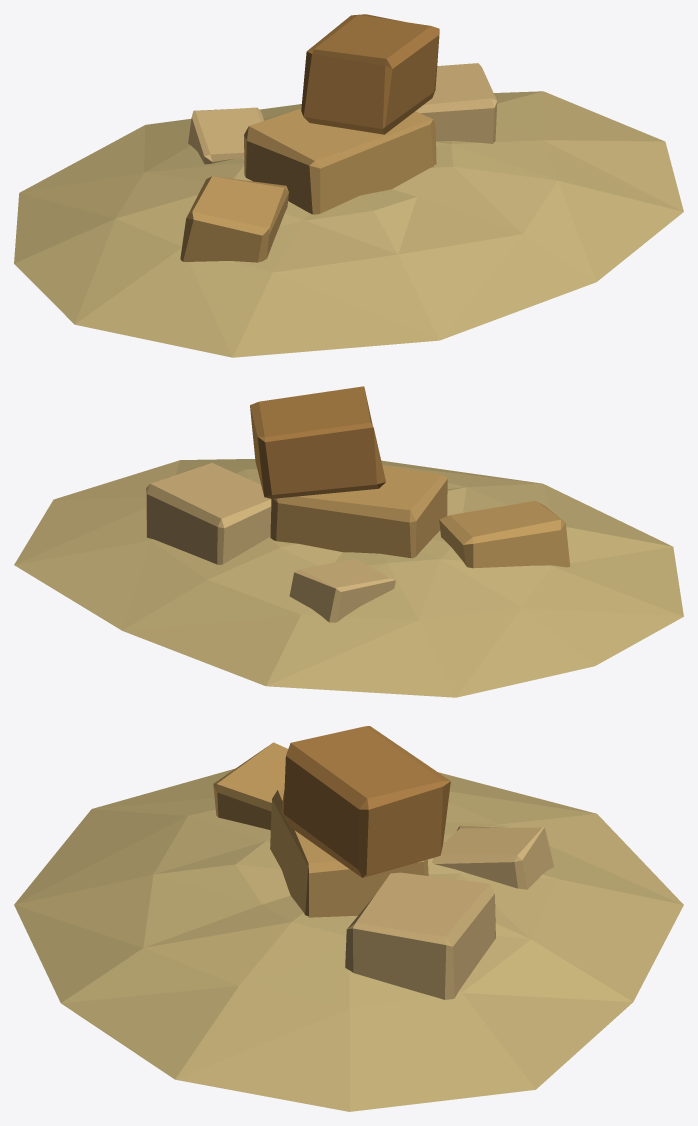
File: pyramid_ruin_blocks.glb
3 renders of one model, top to bottom at view 1: azimuth 30°, elevation 25°; view 2: azimuth 150°, elevation 25°; view 3: azimuth 270°, elevation 25°, orthographic. The views are drawn at different scales.
Visible parts, largest first — view 1: pyramid_ruin_blocks; view 2: pyramid_ruin_blocks; view 3: pyramid_ruin_blocks.
Part boxes in pixels (x1,y1,x2,y2): pyramid_ruin_blocks: (14,14,683,357); pyramid_ruin_blocks: (14,386,683,697); pyramid_ruin_blocks: (14,726,683,1111).
Bounding box in the file's own units: 5.77 × 1.58 × 4.67.
